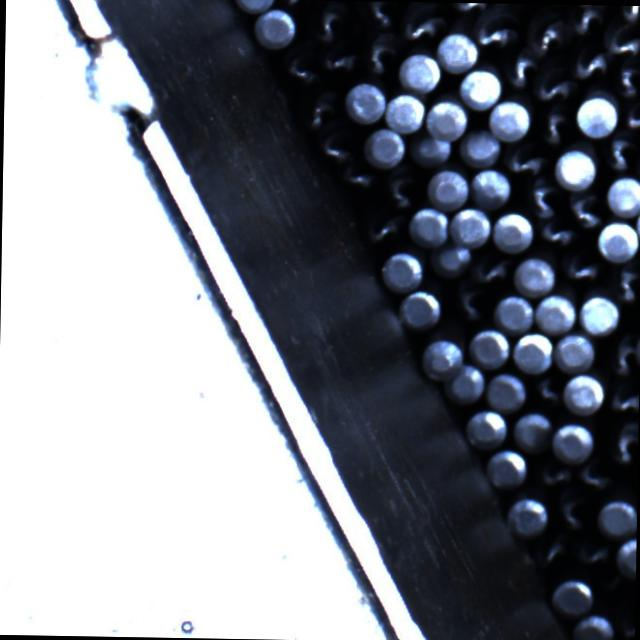tool: (550, 421, 594, 465), (595, 219, 640, 262), (574, 92, 617, 136), (491, 208, 534, 252), (506, 495, 548, 539), (342, 80, 384, 124), (424, 96, 468, 138), (552, 148, 596, 190), (550, 576, 594, 618), (489, 98, 532, 140), (487, 446, 530, 488), (563, 371, 605, 414), (428, 166, 471, 208), (399, 289, 442, 331), (422, 336, 464, 379), (512, 408, 553, 452), (448, 206, 490, 248), (382, 248, 424, 290), (533, 291, 575, 332), (514, 255, 556, 296), (460, 66, 502, 107), (408, 205, 450, 246), (466, 408, 508, 449), (486, 371, 528, 412), (364, 126, 407, 166), (469, 328, 512, 368), (384, 90, 424, 132), (400, 52, 442, 92), (512, 331, 552, 373), (553, 332, 595, 372), (256, 8, 298, 48), (458, 128, 500, 168), (409, 130, 453, 168), (579, 294, 620, 334), (471, 170, 512, 210), (492, 292, 534, 331), (438, 32, 478, 72), (597, 498, 637, 538), (446, 362, 484, 403), (606, 172, 640, 214), (572, 612, 615, 640), (616, 534, 636, 578), (233, 0, 276, 12)
tool_b: (400, 2, 448, 46), (474, 6, 520, 51), (525, 8, 568, 56), (315, 120, 358, 166), (380, 164, 423, 209), (298, 88, 341, 132), (307, 0, 351, 43), (359, 204, 404, 246), (360, 30, 400, 77), (531, 62, 575, 104), (551, 490, 592, 534), (449, 280, 489, 325), (534, 102, 574, 147), (605, 329, 640, 379), (282, 42, 320, 88), (559, 246, 603, 285), (567, 42, 609, 82), (501, 48, 539, 92), (522, 175, 560, 218), (606, 420, 638, 470), (566, 190, 606, 230), (504, 142, 548, 178), (317, 40, 358, 78), (575, 455, 616, 493), (602, 130, 638, 173), (471, 252, 513, 288), (335, 158, 376, 194), (572, 533, 614, 568), (532, 534, 570, 572), (565, 4, 606, 39), (602, 21, 640, 57), (534, 216, 574, 250), (612, 260, 640, 305), (532, 458, 573, 488), (606, 379, 638, 417), (530, 374, 564, 409), (613, 56, 640, 99), (359, 1, 399, 30), (620, 98, 640, 134), (444, 2, 494, 14), (616, 610, 635, 640), (616, 5, 640, 24)
